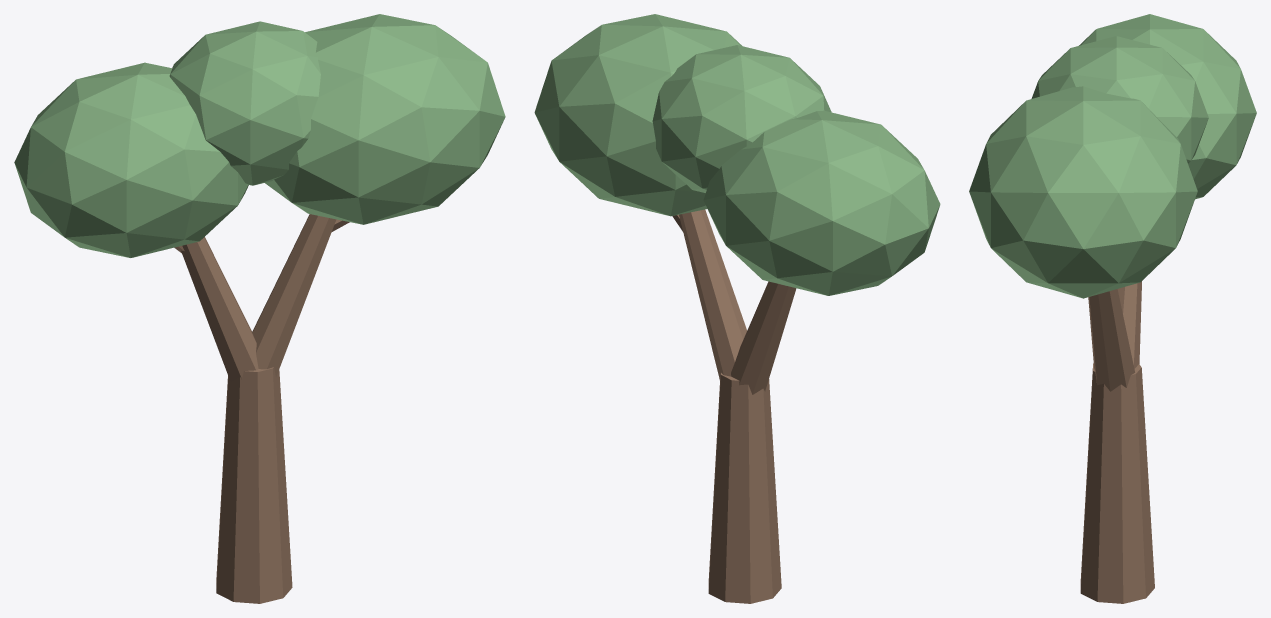
The model's file is tree_d_forked.glb.
3 renders of one model, left to right at view 1: azimuth 30°, elevation 25°; view 2: azimuth 150°, elevation 25°; view 3: azimuth 270°, elevation 25°, orthographic. The views are drawn at different scales.
Visible parts, largest first — view 1: canopy_1, canopy_0, canopy_2, trunk, fork_r, fork_l; view 2: canopy_0, canopy_1, canopy_2, trunk, fork_r, fork_l; view 3: canopy_1, trunk, canopy_0, canopy_2, fork_r, fork_l.
Part boxes in pixels (bbox=[...]): canopy_1: bbox=[265, 14, 505, 224]; canopy_0: bbox=[14, 62, 248, 257]; canopy_2: bbox=[169, 21, 320, 185]; trunk: bbox=[216, 367, 292, 603]; fork_r: bbox=[252, 214, 336, 376]; fork_l: bbox=[181, 237, 258, 382]; canopy_0: bbox=[703, 110, 940, 295]; canopy_1: bbox=[534, 14, 741, 216]; canopy_2: bbox=[652, 45, 831, 192]; trunk: bbox=[708, 373, 781, 603]; fork_r: bbox=[679, 209, 747, 381]; fork_l: bbox=[731, 281, 796, 394]; canopy_1: bbox=[969, 86, 1197, 298]; trunk: bbox=[1080, 363, 1154, 603]; canopy_0: bbox=[1079, 14, 1256, 199]; canopy_2: bbox=[1031, 36, 1208, 163]; fork_r: bbox=[1088, 289, 1134, 391]; fork_l: bbox=[1117, 281, 1141, 368].
Size of the model in its own units: 6.6 by 8.1 by 3.9.
